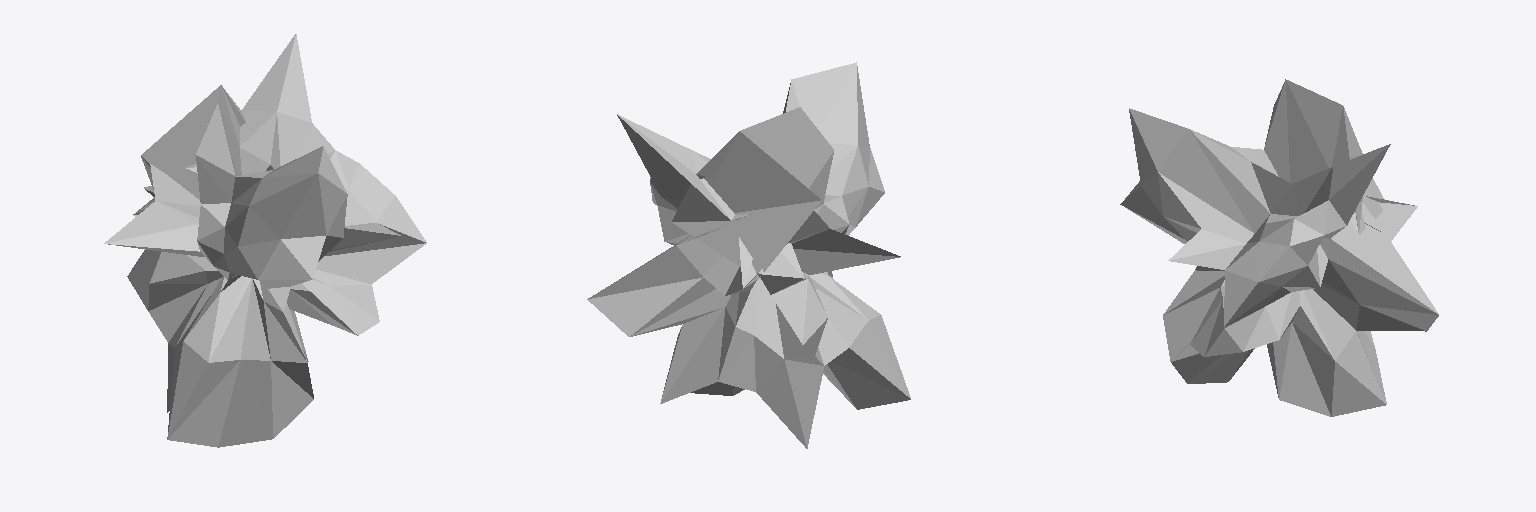
File: Asteroid_crystal.obj
3 views of the same model, side by side, from view 1: azimuth 30°, elevation 25°; view 2: azimuth 150°, elevation 25°; view 3: azimuth 270°, elevation 25° (orthographic).
Parts seen in each view (by area): view 1: Icosphere.002; view 2: Icosphere.002; view 3: Icosphere.002.
Part boxes in pixels (x1,y1,x2,y2): Icosphere.002: (104, 34, 426, 447); Icosphere.002: (587, 62, 910, 448); Icosphere.002: (1120, 79, 1438, 416).
Size of the model in its own units: 1.65 by 1.76 by 1.59.